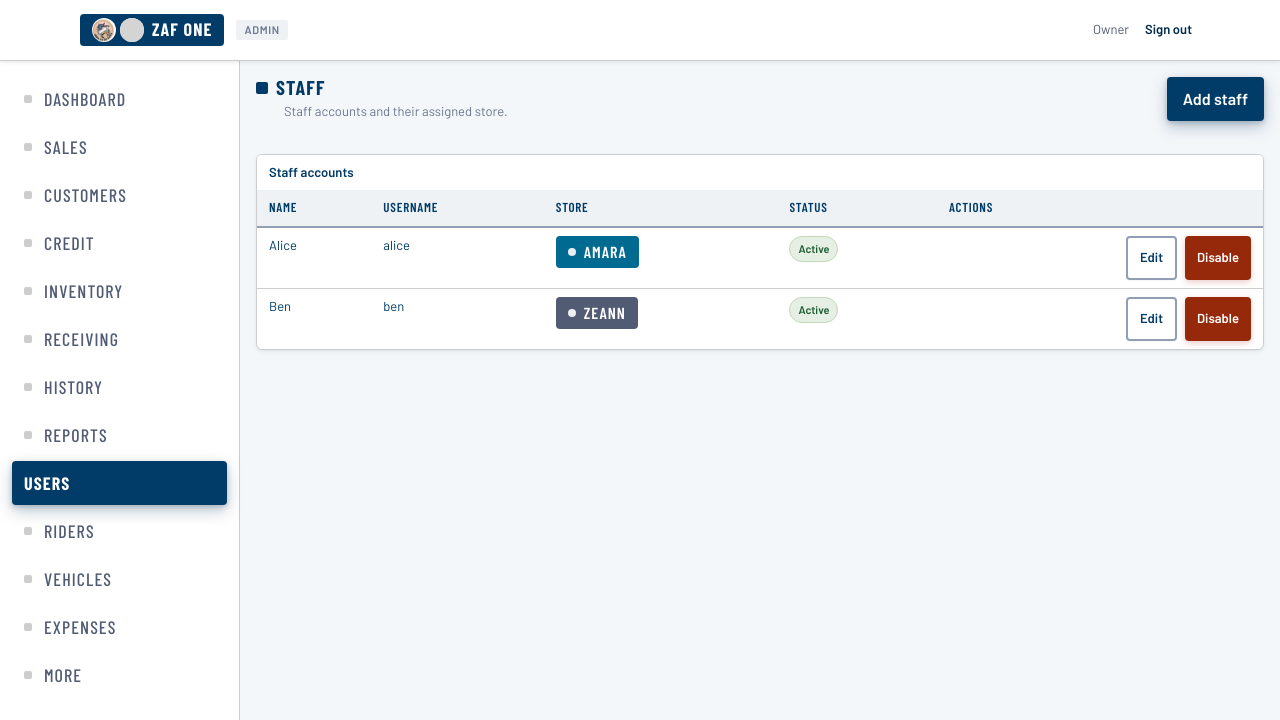
Test: StaffListPage › adds a staff account with a store assignment
Expected: the text "Alice" is shown, [257,227,371,288]
Click the button "Add staff" at point(1215, 99), box [1167,77,1264,121]
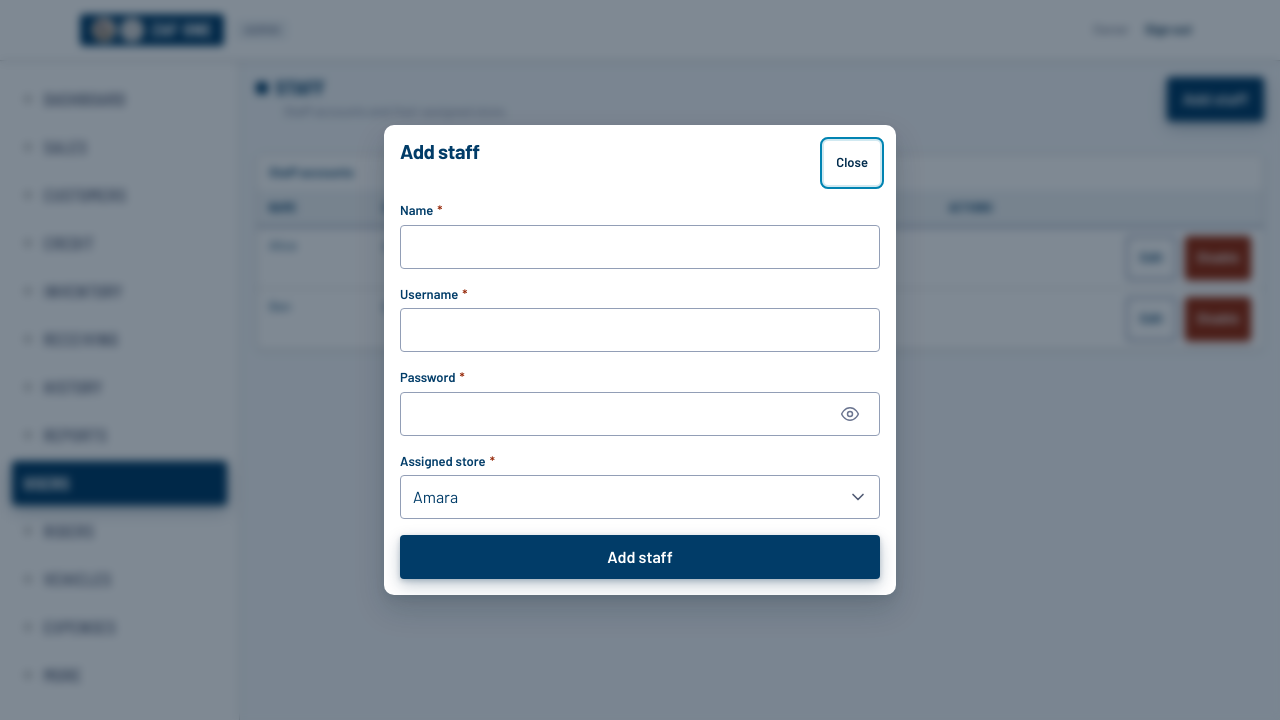
Type "Cora Staff" into the field labelled "Name*" at point(640, 246), box [400,224,880,268]
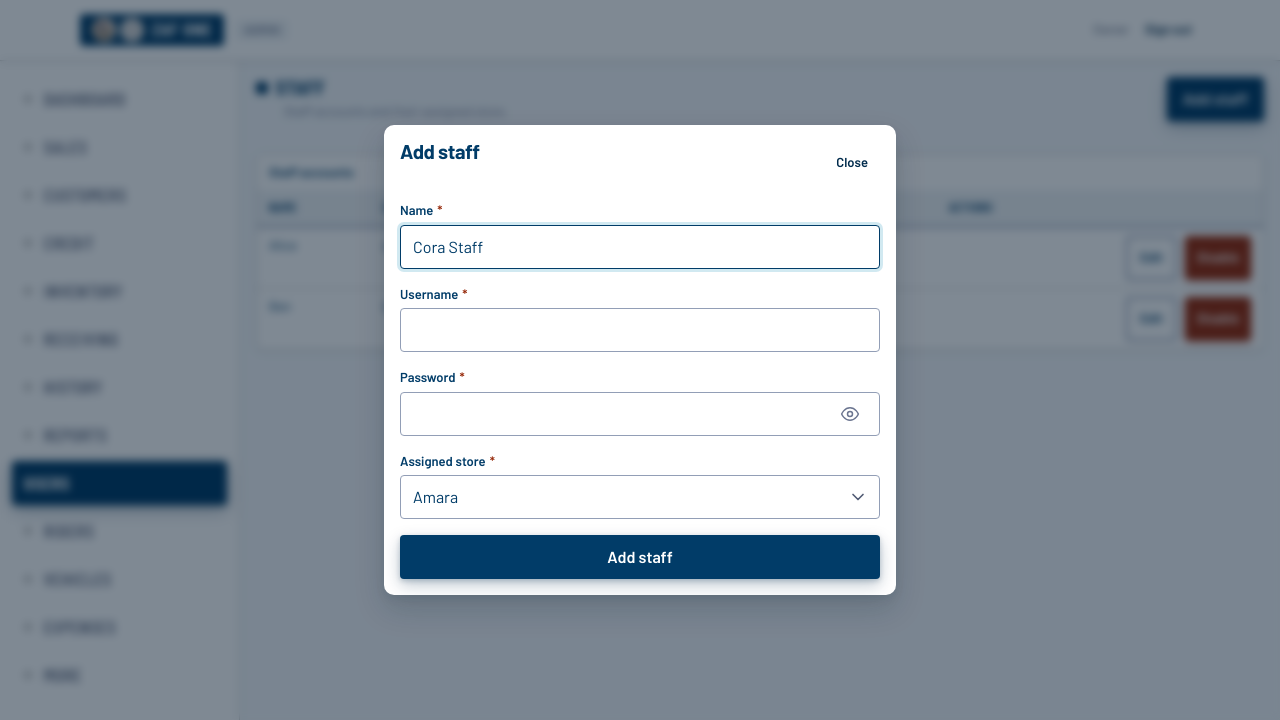
Type "cora" into the field labelled "Username*" at point(640, 330), box [400,308,880,352]
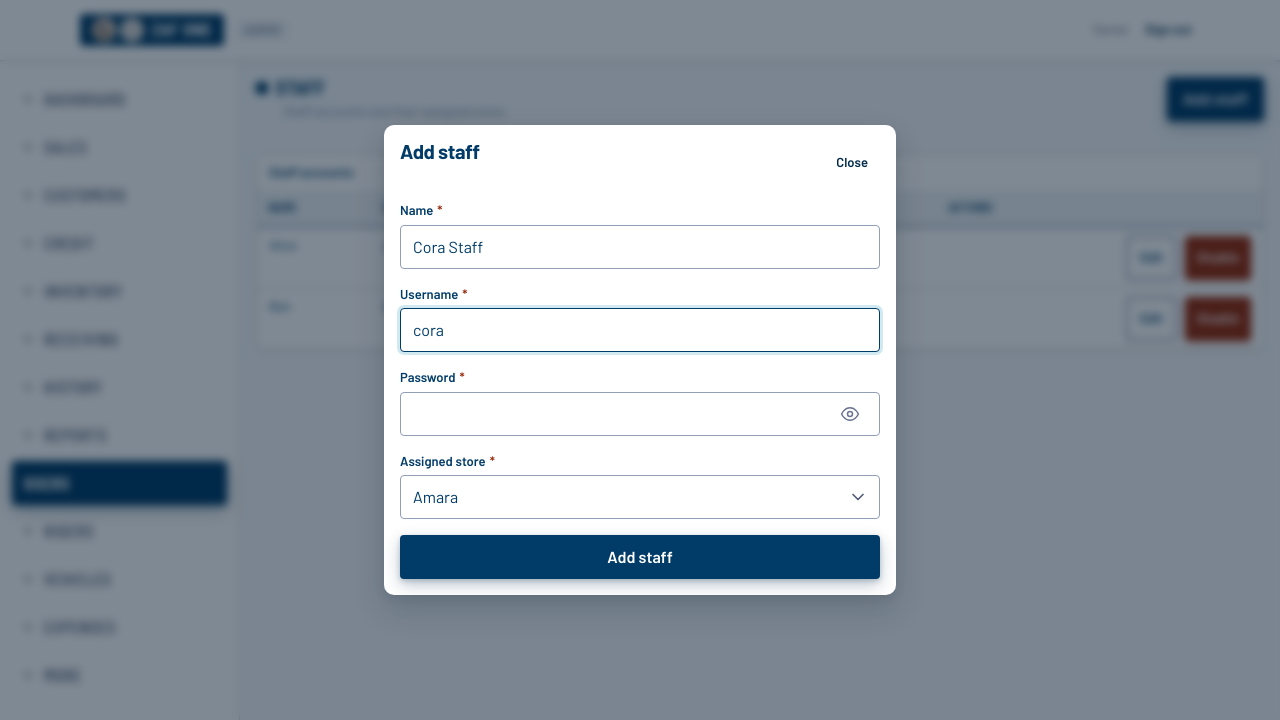
Type "cora1234" into the password field labelled "Password*" at point(640, 414), box [400,392,880,436]
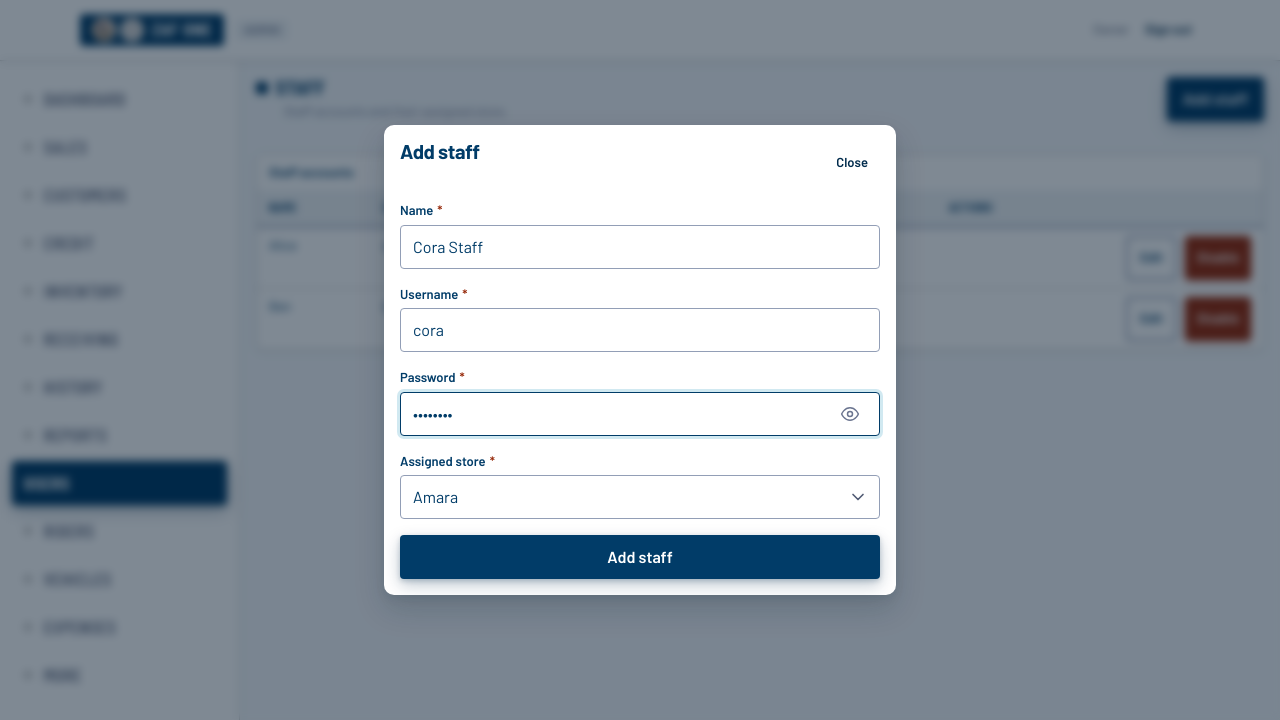
Select "Zeann" in the dropdown labelled "Assigned store*" at point(640, 497), box [400,475,880,519]
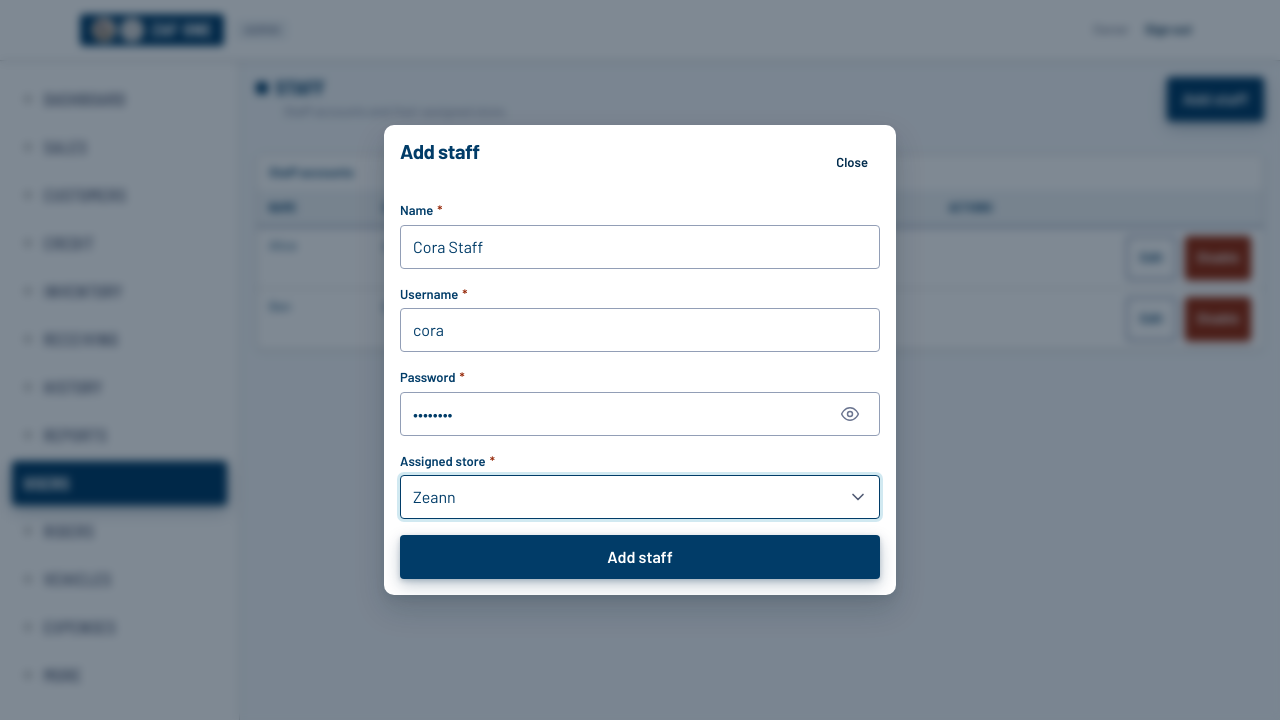
Click the button "Add staff" at point(640, 557), box [400,535,880,579]
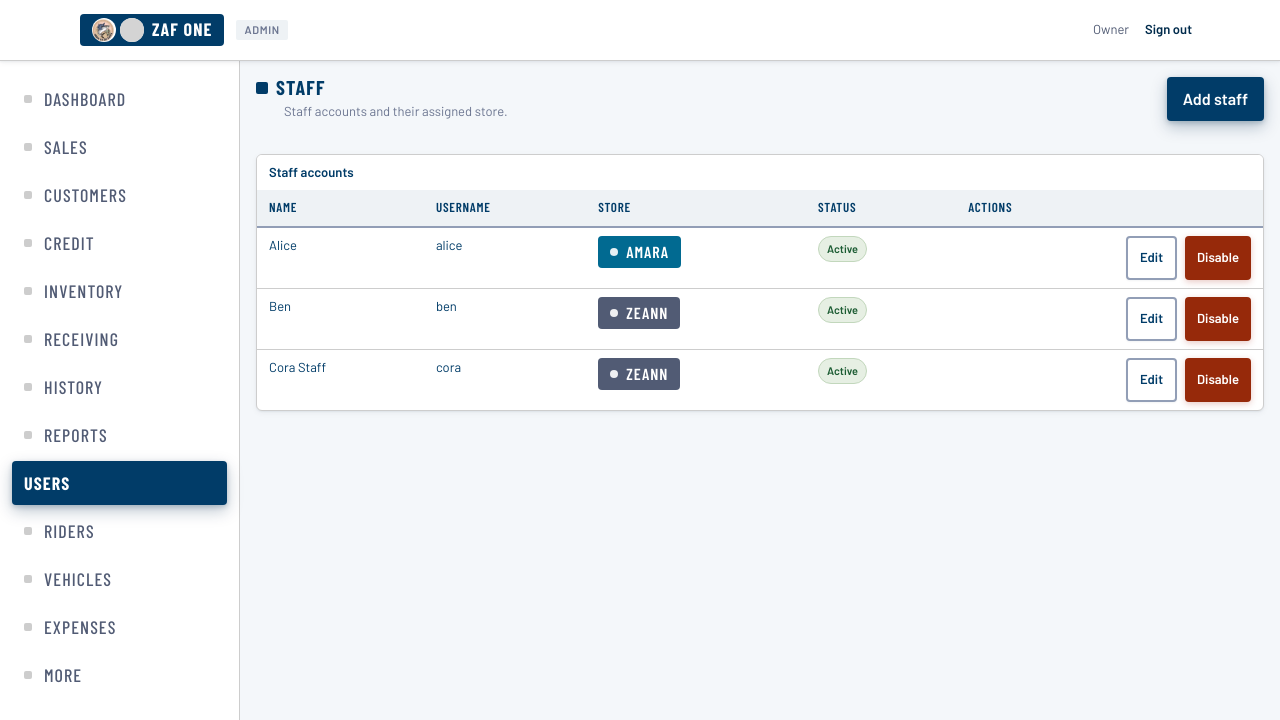
Expected: the text "cora" is shown, [424,349,586,410]
